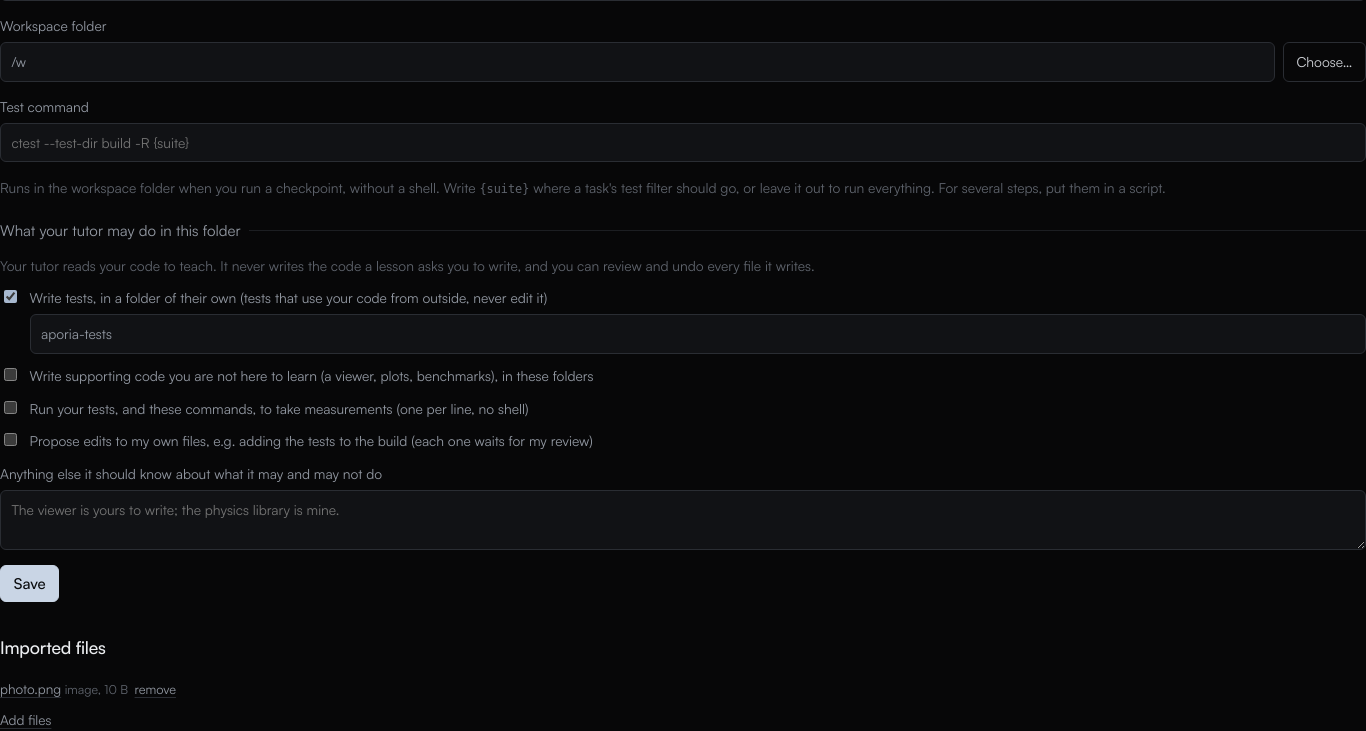
Test: imported files in the project settings › shows a file without text
(page scrolled)
Click the button "photo.png": (31, 689) [0, 679, 61, 700]
(page scrolled)
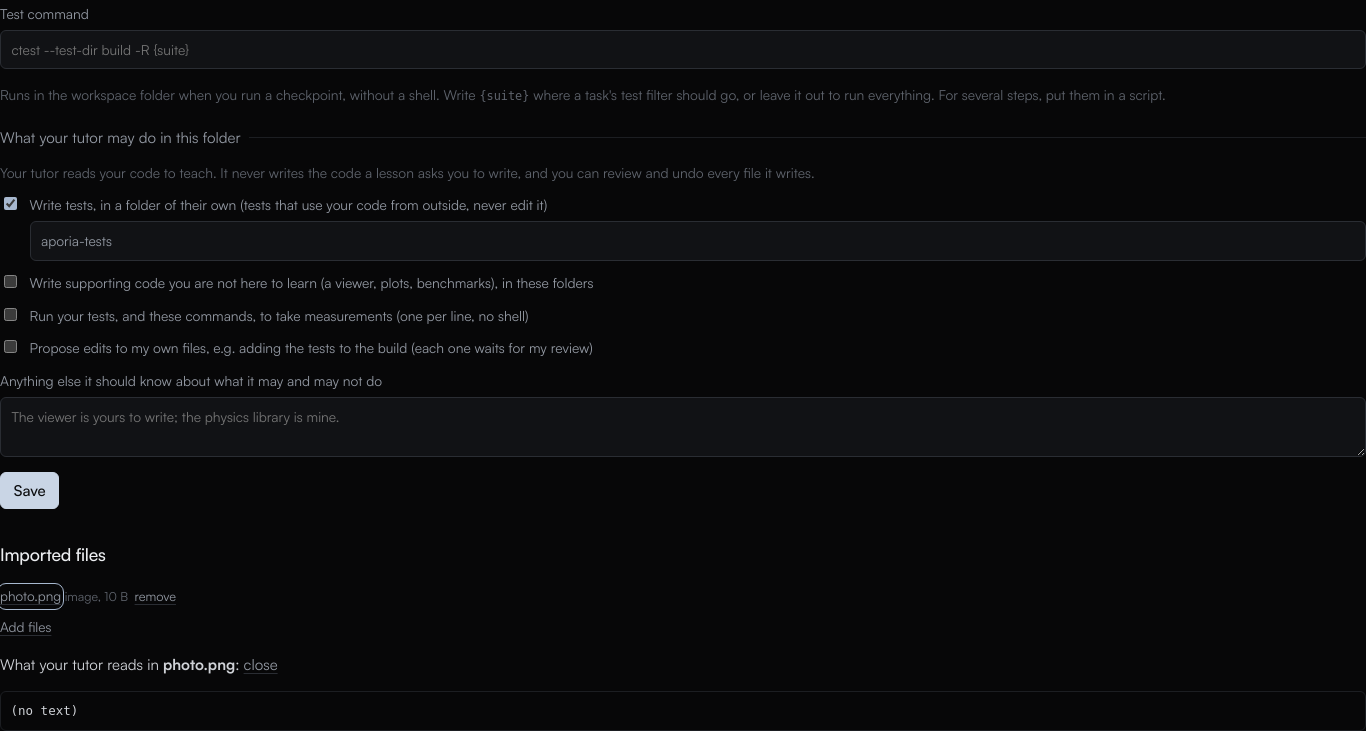
Check: the text "(no text)" is shown, box [0, 691, 1365, 730]
